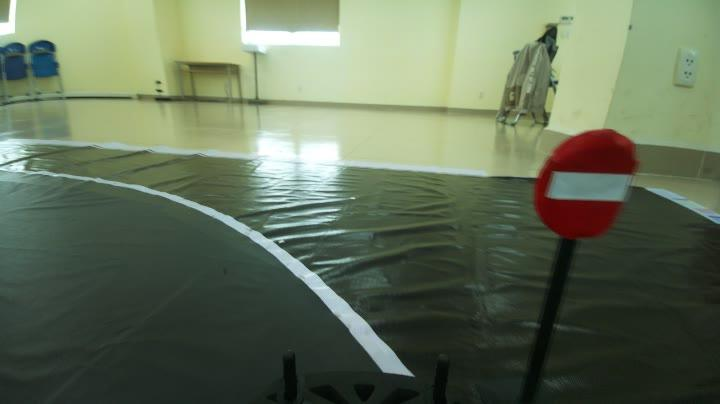no_entry: (534, 118, 638, 248)
